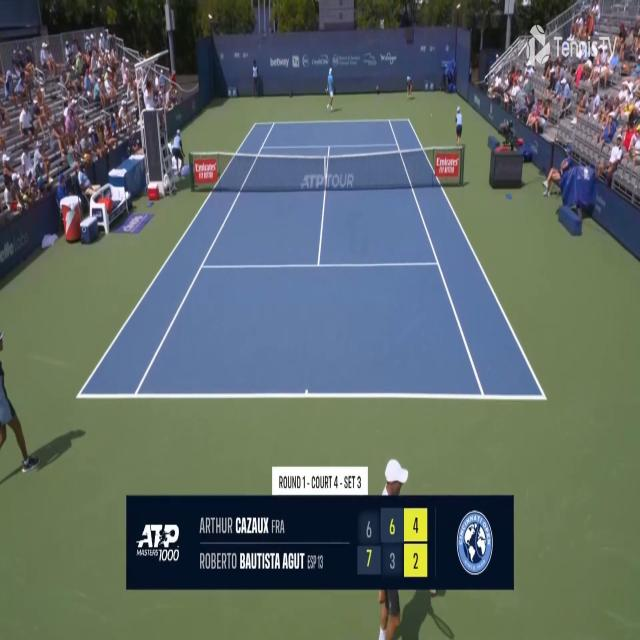tennis-player: (325, 63, 337, 114)
